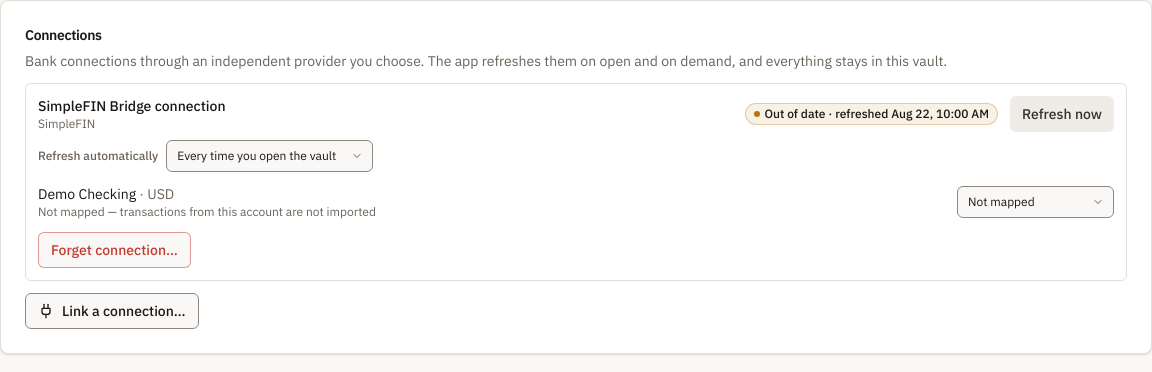
Test: ConnectionsCard › refresh age (the badge's words carry the status) › keeps the action's name and shows a spinner while a refresh is pending
The image size is (1152, 372).
What coordinates should you click on to do the following:
click the button "Refresh now"
I would click on:
 (1062, 114)
Its box is [1010,96,1114,132].
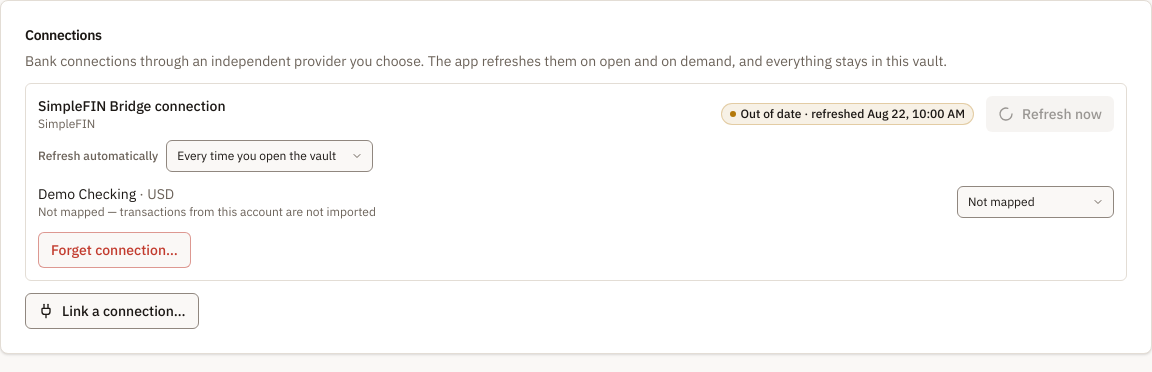
Expected: the text "Out of date · refreshed Aug 22, 10:00 AM" is shown, [722,103,974,125]
Expected: the button "Refresh now" is disabled, [986,96,1114,132]
Expected: the icon with class "animate-spin" is shown, [998,106,1014,122]
